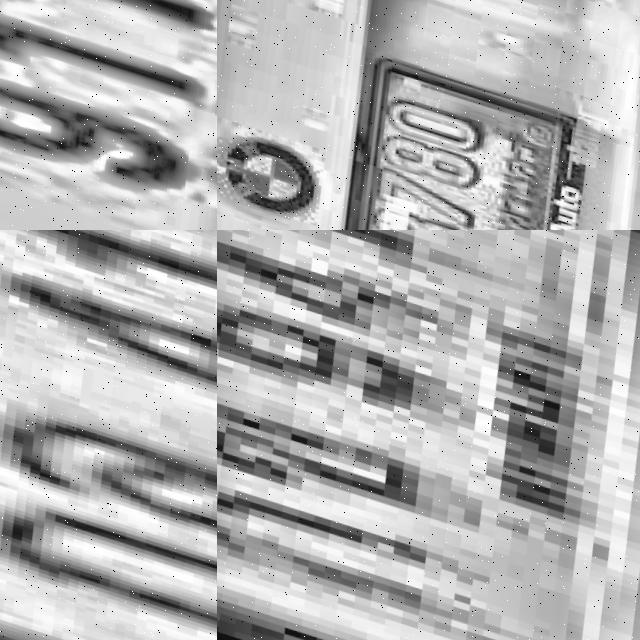license-plate: (217, 230, 640, 640), (0, 230, 217, 640), (304, 34, 614, 230), (0, 0, 217, 230)
